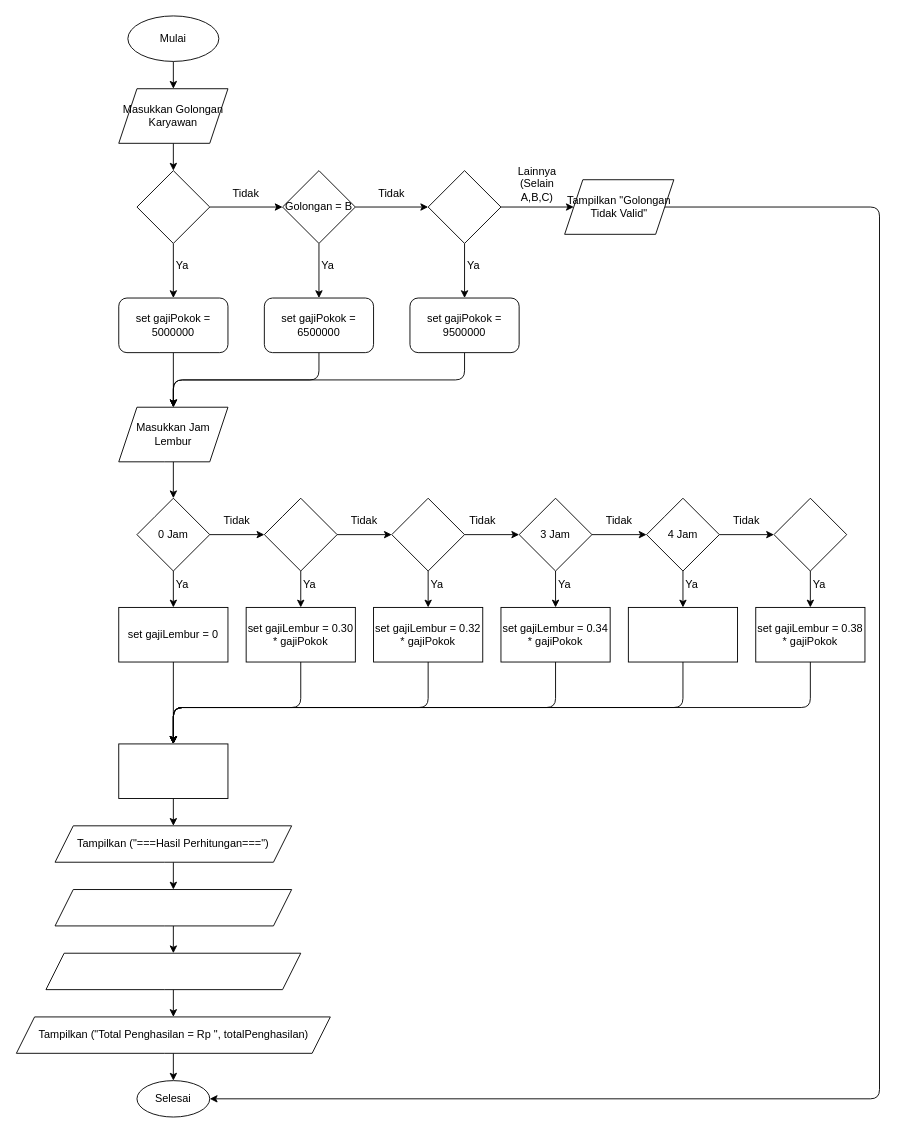
This 903x1133 diagram has some shape labels left out. Here are the shapes that lost their labels. From the top down, the centre of each, then its label:
the point at 173,206: Golongan = A
the point at 464,206: Golongan = C
the point at 300,534: 1 Jam
the point at 428,534: 2 Jam
the point at 810,534: >= 5 Jam
the point at 682,634: set gajiLembur = 0.36 * gajiPokok
the point at 173,771: set totalPenghasilan = gajiPokok + gajiLembur
the point at 173,907: Tampilkan ("Gaji Pokok = Rp ", gajiPokok)
the point at 173,971: Tampilkan ("Gaji Lembur = Rp ", gajiLembur)
